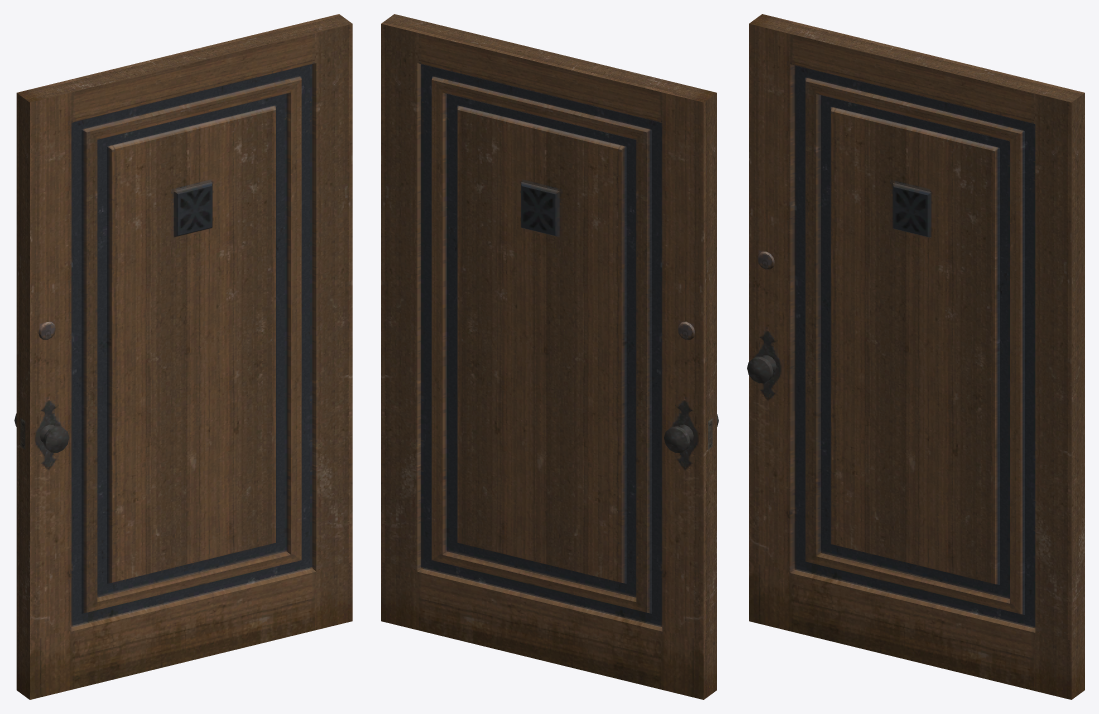
The model's file is v_ilev_fa_frontdoor.obj.
3 renders of one model, left to right at view 1: azimuth 30°, elevation 25°; view 2: azimuth 150°, elevation 25°; view 3: azimuth 330°, elevation 25°, orthographic.
Bounding box in the file's own units: 1.3 × 2.3 × 0.2432.
2 materials, 2 textured.
